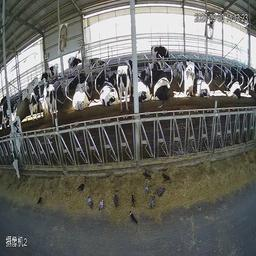cow: (5, 113, 25, 181), (151, 65, 172, 109), (118, 54, 132, 114), (100, 68, 118, 113), (42, 80, 61, 122), (70, 78, 94, 109), (138, 63, 152, 112), (222, 69, 242, 99), (182, 56, 195, 101), (195, 65, 210, 104), (148, 42, 170, 67), (25, 90, 39, 127), (40, 61, 61, 84), (21, 74, 40, 99), (93, 49, 116, 69), (212, 61, 223, 82), (175, 57, 185, 80)
